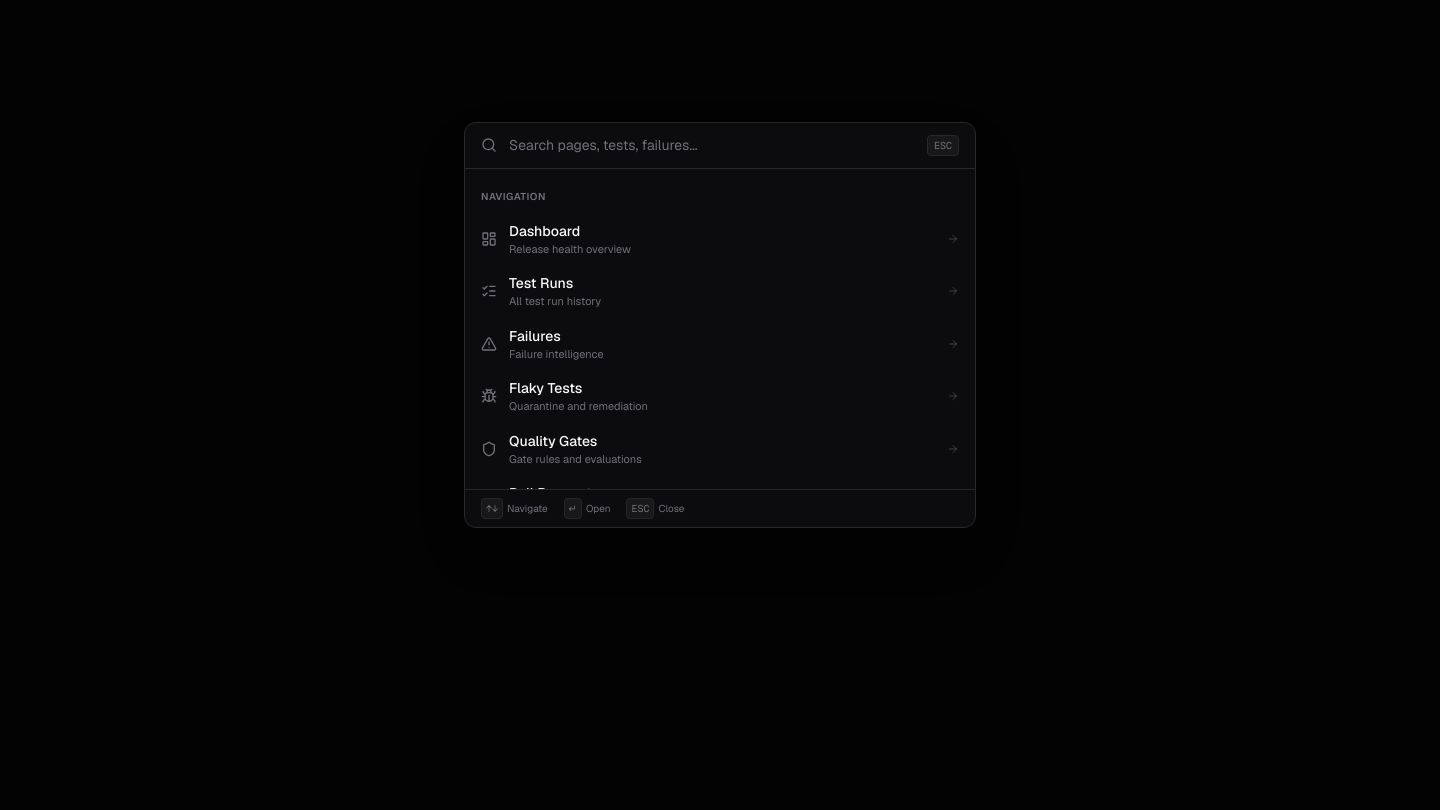
CommandSearch › shows nothing rather than everything when there is no match
The image size is (1440, 810).
Step 1. Type "zzzzzznotathing" into the field → (712, 145), box [509,135,915,155]
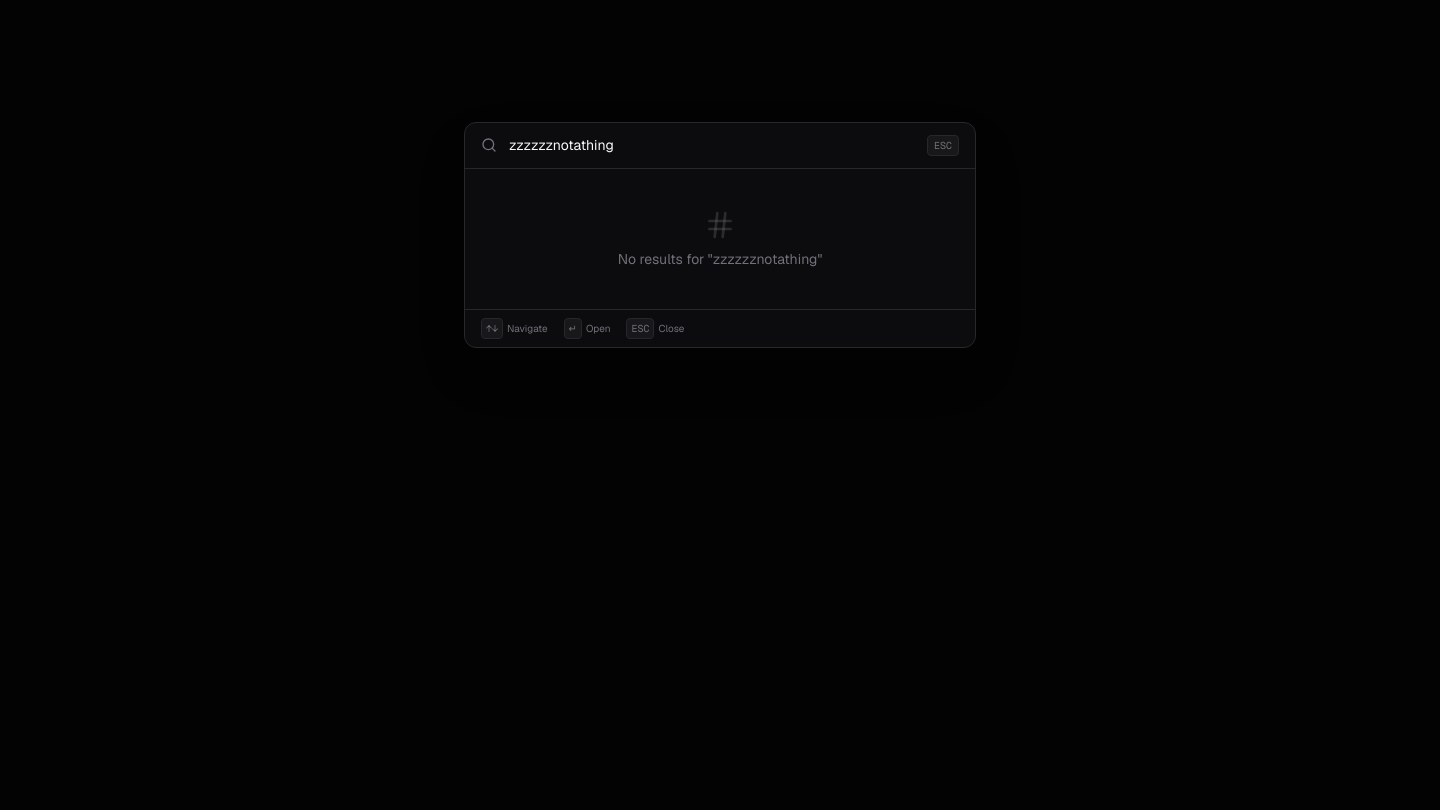
Expected: the text "Recent" is not shown
Result: the text "Navigation" is gone
